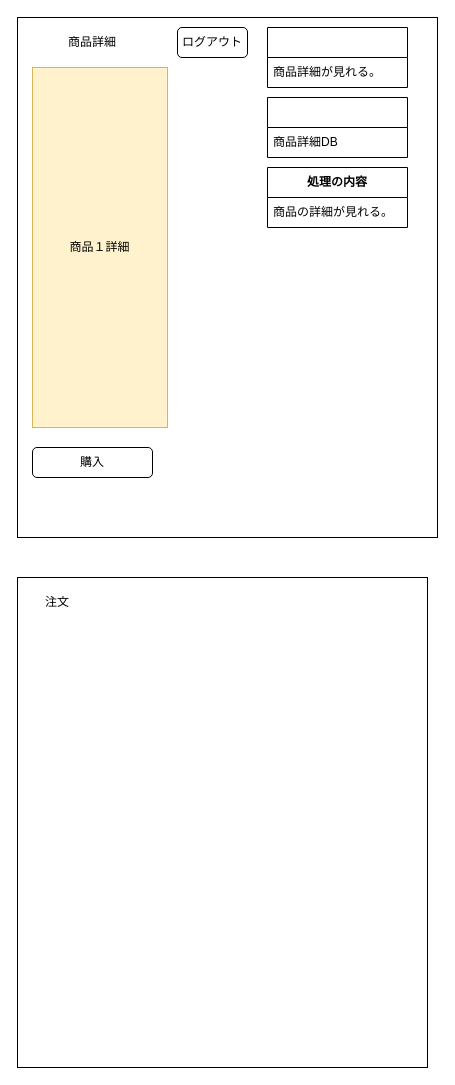
The diagram is 455 pixels wide and 1085 high, and some of its shapes have lost their labels. The shapes that lost their labels are listed below. From the top down, each one's box as (x1, y1, x2, y2) in pixels, then its label:
(266, 26, 408, 88): トリガー
(266, 96, 408, 158): DB
